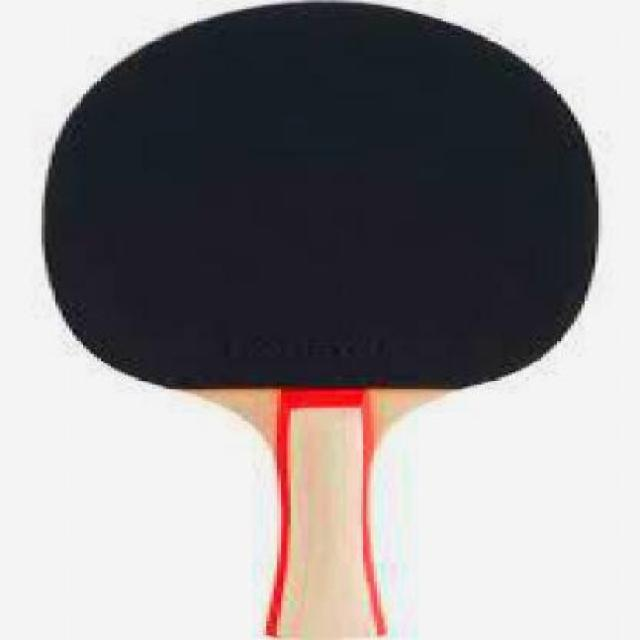table_tennis_racket: (34, 0, 609, 437)
